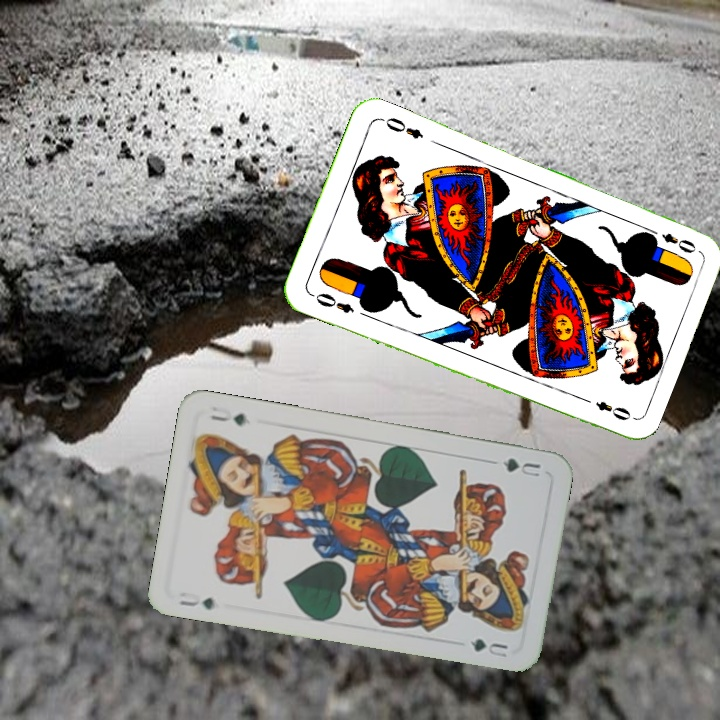EO: (643, 224, 699, 256), (306, 289, 357, 317)
GU: (497, 454, 543, 480), (175, 587, 217, 613)
